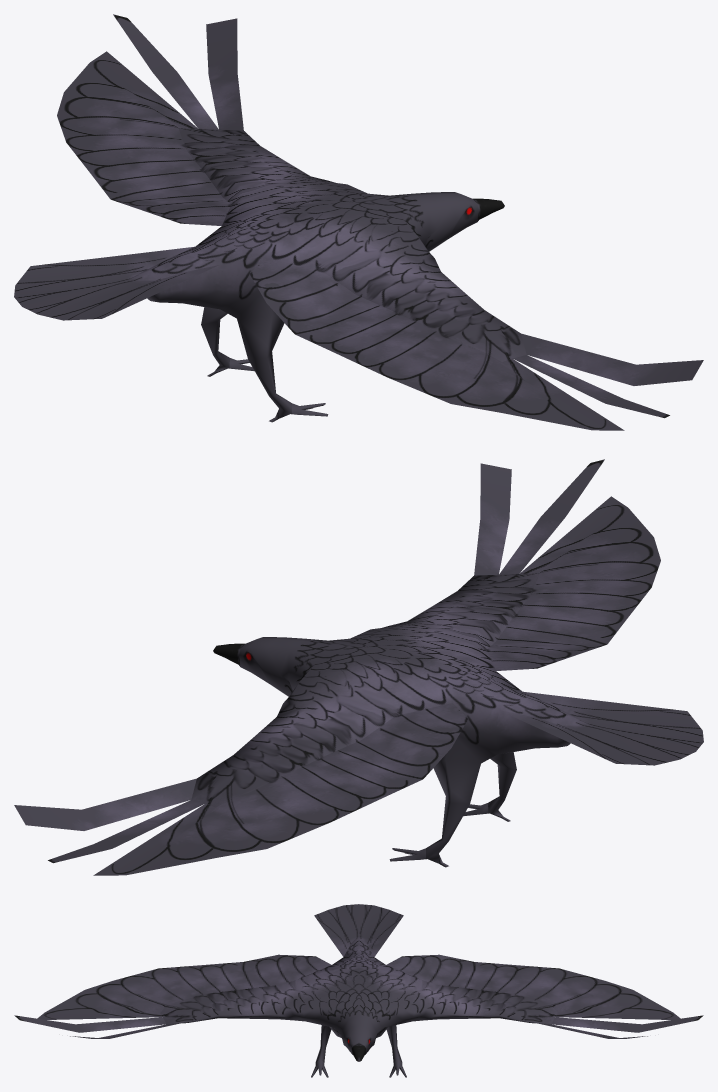
Rendered from raven.fbx.
3 renders of one model, top to bottom at view 1: azimuth 30°, elevation 25°; view 2: azimuth 150°, elevation 25°; view 3: azimuth 270°, elevation 25°, orthographic. The views are drawn at different scales.
Parts seen in each view (by area): view 1: rabbit_obj_01_uvdone:uv:pCube7; view 2: rabbit_obj_01_uvdone:uv:pCube7; view 3: rabbit_obj_01_uvdone:uv:pCube7.
Boxes of the visible parts, box(x1,y1,x2,y2) form: rabbit_obj_01_uvdone:uv:pCube7: box(14, 14, 703, 430); rabbit_obj_01_uvdone:uv:pCube7: box(14, 459, 703, 875); rabbit_obj_01_uvdone:uv:pCube7: box(14, 904, 703, 1077).
Size of the model in its own units: 102 by 35.19 by 202.
1 material, 1 textured.
